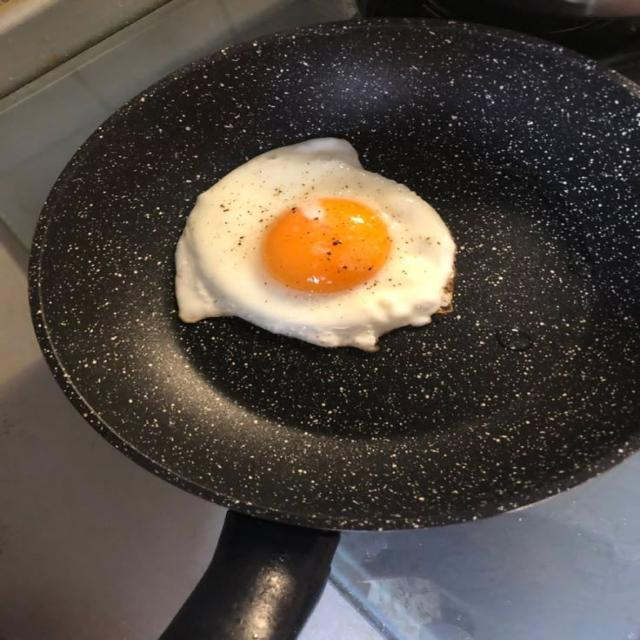fryed egg: (176, 139, 455, 350)
